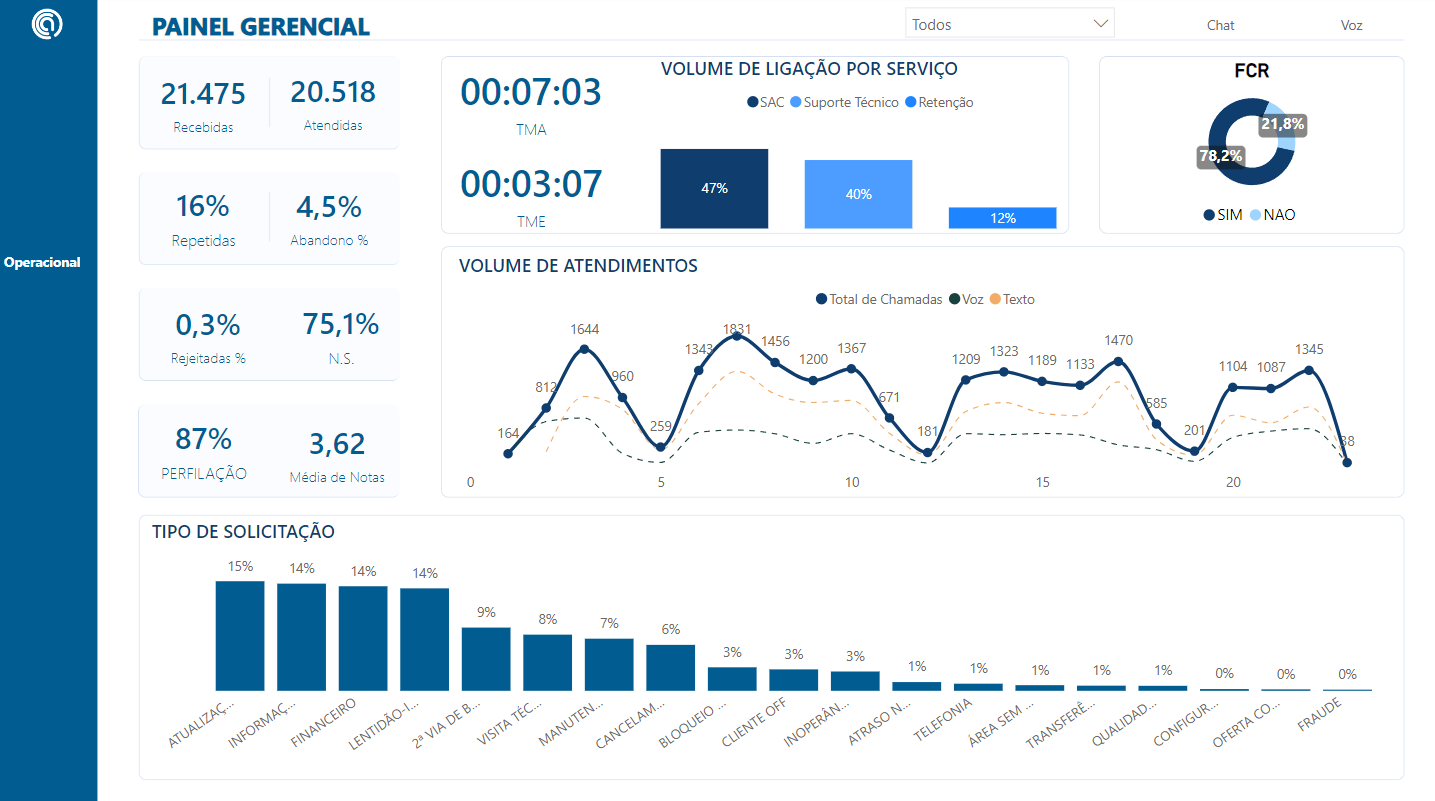

Layout of this report page (visuals, bound fields, positions):
{"tool":"powerbi","page":{"name":"Gerencial","canvas":[1280,720],"ordinal":0},"visuals":[{"type":"donutChart","title":"FCR","fields":{"Category":["fAtendidosTeste.ProblemaResolvido"],"Y":["Medidas.QDT_ATENDIDAS"]},"box":[977.7,56.1,266,156.9],"z":0},{"type":"card","fields":{"Values":["dCalendário.QDT_CHAMADAS"]},"box":[240.3,53.2,111.7,79.8],"z":1000},{"type":"card","fields":{"Values":["dCalendário.Abandono %"]},"box":[236.9,155.8,112.2,77.9],"z":2000},{"type":"card","fields":{"Values":["Medidas.N.S."]},"box":[247.3,260.8,112.2,77.9],"z":3000},{"type":"lineChart","title":"VOLUME DE ATENDIMENTOS","fields":{"Y":["Medidas.QDT_ATENDIDAS_CONSOLIDADA","Medidas.QDT_ATENDIDAS_VOZ","Medidas.QDT_ATENDIDAS_TEXTO"],"Category":["fAtendidosTeste.Data Inicial da Chamada.Variation.Hierarquia de datas.Dia"]},"box":[402.5,227.5,841.7,221.7],"z":4000},{"type":"clusteredColumnChart","title":"TIPO DE SOLICITAÇÃO","fields":{"Category":["fAtendidosTeste.fReclassificao.NOVA_CLASSIFICAÇÃO"],"Y":["Divide(Medidas.QDT_ATENDIDAS, ScopedEval(Medidas.QDT_ATENDIDAS, []))"]},"box":[130,463.3,1114.2,218.3],"z":5000},{"type":"slicer","fields":{"Values":["fAtendidosTeste.Mídia"]},"box":[1000.2,6.2,280.2,38.1],"z":6000},{"type":"columnChart","title":"VOLUME DE LIGAÇÃO POR SERVIÇO","fields":{"Category":["fAtendidosTeste.Serviço"],"Y":["CountNonNull(fAtendidosTeste.Serviço)"],"Series":["fAtendidosTeste.Serviço"]},"box":[581.8,53,367.8,159],"z":7000},{"type":"card","fields":{"Values":["dCalendário.QDT_ATENDIDAS"]},"box":[121.1,53.6,119.4,83],"z":8000},{"type":"card","fields":{"Values":["Medidas.TMA_CONSOLIDADO"]},"box":[391.7,53,160,80],"z":9000},{"type":"card","fields":{"Values":["Medidas.TME2"]},"box":[391.7,137.1,160,74.8],"z":10000},{"type":"image","box":[0,6.2,86.9,38.1],"z":11000},{"type":"textbox","box":[130,6,292,38],"z":12000},{"type":"slicer","fields":{"Values":["dCalendário.Date"]},"box":[793.7,0,206.2,37.9],"z":13000},{"type":"actionButton","box":[0,212.2,87.1,42.3],"z":14000},{"type":"card","fields":{"Values":["Medidas.QDT_REJEITADAS"]},"box":[129.9,260.8,112.2,77.9],"z":15000},{"type":"card","fields":{"Values":["Medidas.QDT_REPETIDAS"]},"box":[124.7,155.8,112.2,77.9],"z":16000},{"type":"card","fields":{"Values":["Avg(fAtendidosTeste.Notas)"]},"box":[247.3,360.5,104.9,88.3],"z":18000},{"type":"card","fields":{"Values":["Medidas.PERFILAÇÃO"]},"box":[122.6,360.5,118.4,81],"z":19000}]}

Visuals, with their boxes on the page's 1280x720 design canvas (x1, y1, x2, y2). These are canvas units, not pixel positions in the 1435x801 screenshot, which may show the page scaled, cropped or inside an application window:
"FCR" donutChart: bbox=[978, 56, 1244, 213]
card - dCalendário.QDT_CHAMADAS: bbox=[240, 53, 352, 133]
card - dCalendário.Abandono %: bbox=[237, 156, 349, 234]
card - Medidas.N.S.: bbox=[247, 261, 360, 339]
"VOLUME DE ATENDIMENTOS" lineChart: bbox=[402, 228, 1244, 449]
"TIPO DE SOLICITAÇÃO" clusteredColumnChart: bbox=[130, 463, 1244, 682]
slicer - fAtendidosTeste.Mídia: bbox=[1000, 6, 1280, 44]
"VOLUME DE LIGAÇÃO POR SERVIÇO" columnChart: bbox=[582, 53, 950, 212]
card - dCalendário.QDT_ATENDIDAS: bbox=[121, 54, 240, 137]
card - Medidas.TMA_CONSOLIDADO: bbox=[392, 53, 552, 133]
card - Medidas.TME2: bbox=[392, 137, 552, 212]
image: bbox=[0, 6, 87, 44]
textbox: bbox=[130, 6, 422, 44]
slicer - dCalendário.Date: bbox=[794, 0, 1000, 38]
actionButton: bbox=[0, 212, 87, 254]
card - Medidas.QDT_REJEITADAS: bbox=[130, 261, 242, 339]
card - Medidas.QDT_REPETIDAS: bbox=[125, 156, 237, 234]
card - Avg(fAtendidosTeste.Notas): bbox=[247, 360, 352, 449]
card - Medidas.PERFILAÇÃO: bbox=[123, 360, 241, 442]
